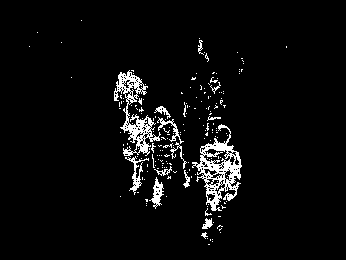person: (194, 122, 240, 241), (150, 106, 191, 205), (119, 97, 156, 195), (204, 69, 226, 136)
